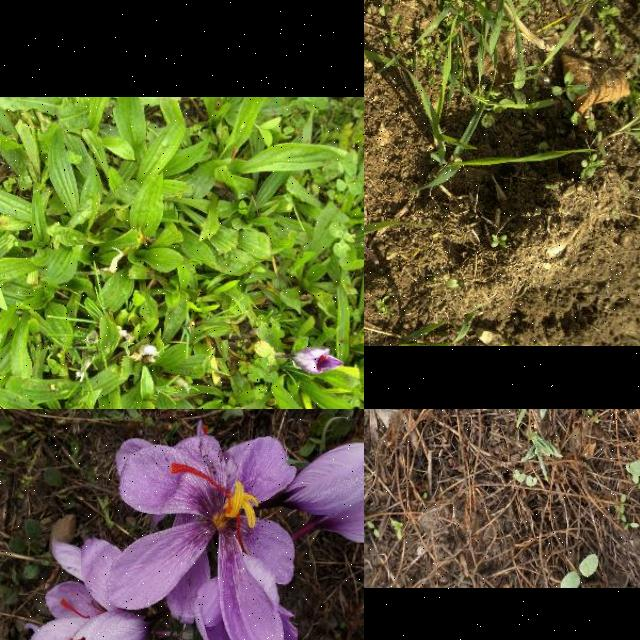flower: (106, 436, 297, 640), (273, 431, 364, 519), (60, 599, 154, 640), (296, 348, 344, 376)
overlap: (24, 420, 364, 640)
